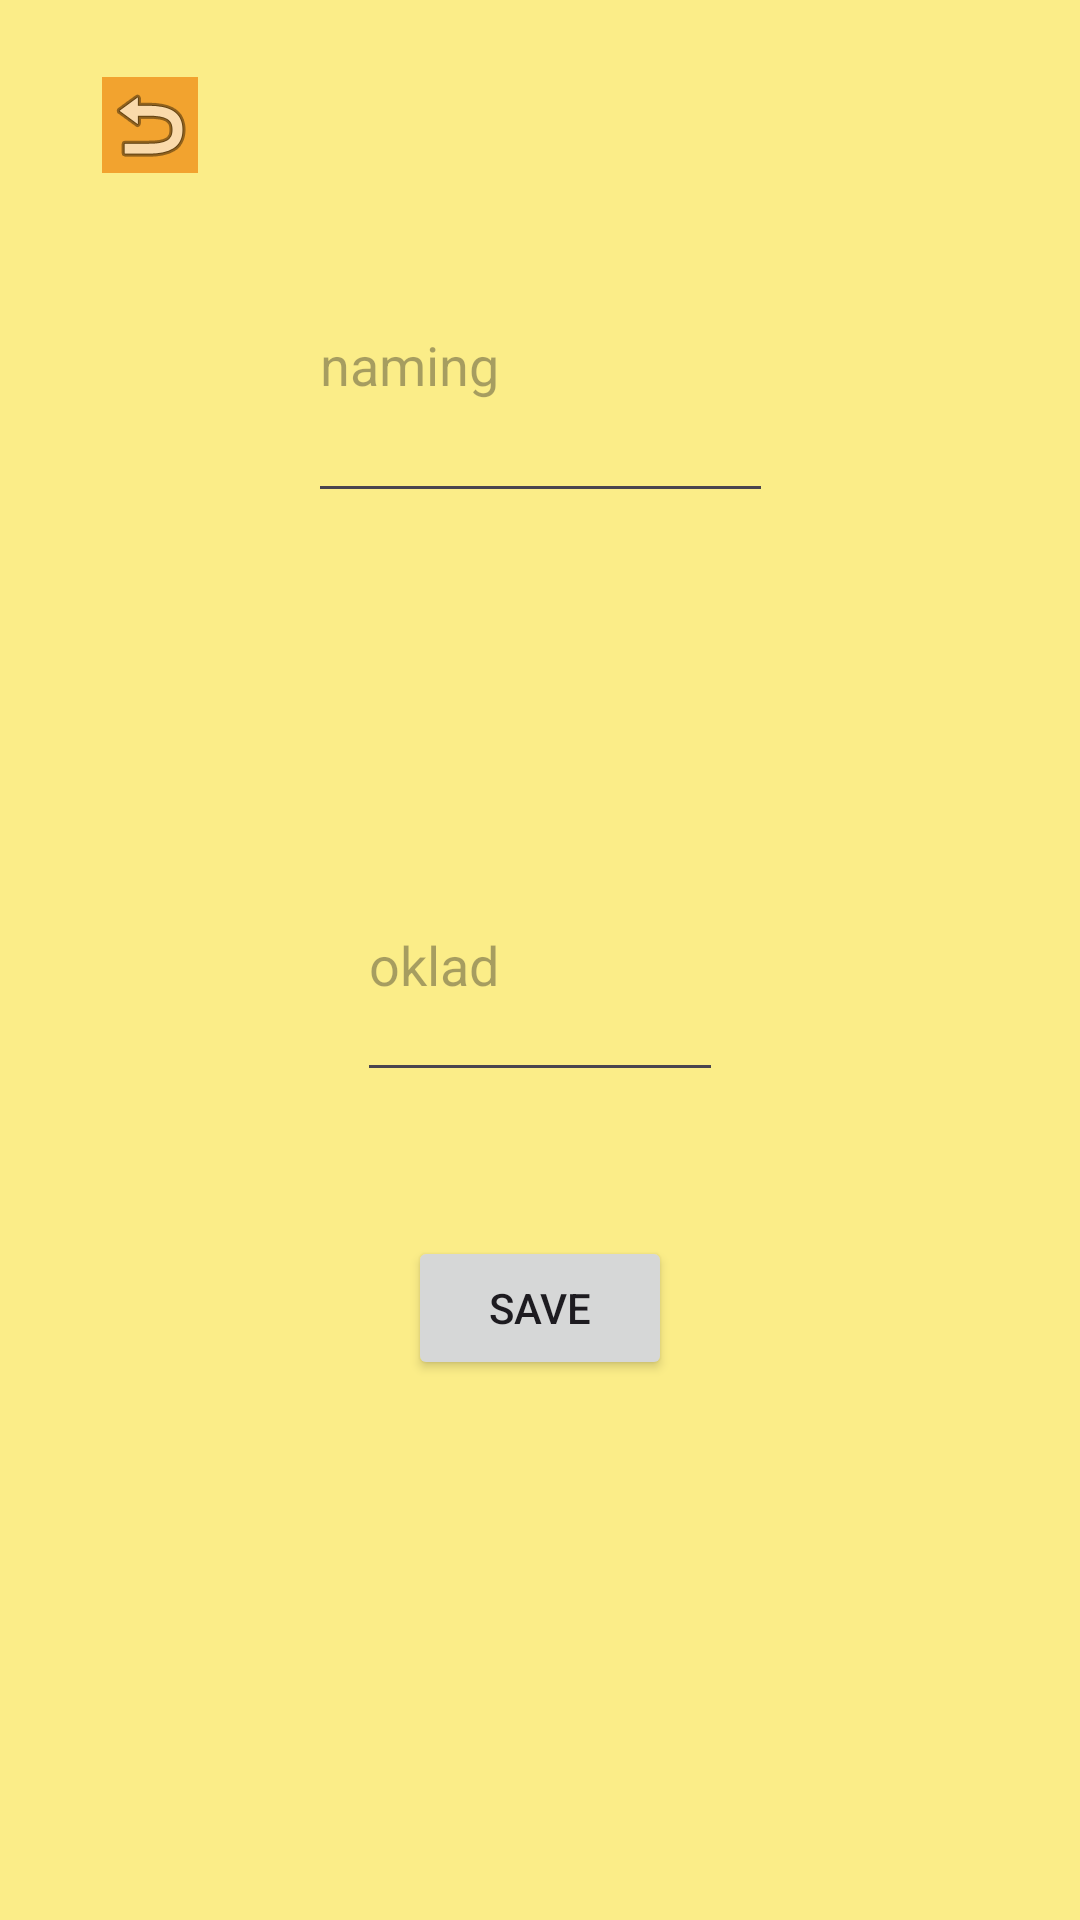

Named icons in this screenshot (1080px x 1920px) and their bounding boxes, (x1=x1, y1=y1, x2=x2, y2=y2):
revert: (x1=102, y1=77, x2=198, y2=173)
